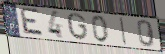0: (90, 14, 110, 44), (137, 19, 155, 48)
4: (46, 9, 66, 39)
E: (20, 6, 45, 38)
G: (66, 12, 90, 41)
I: (119, 16, 128, 46)
